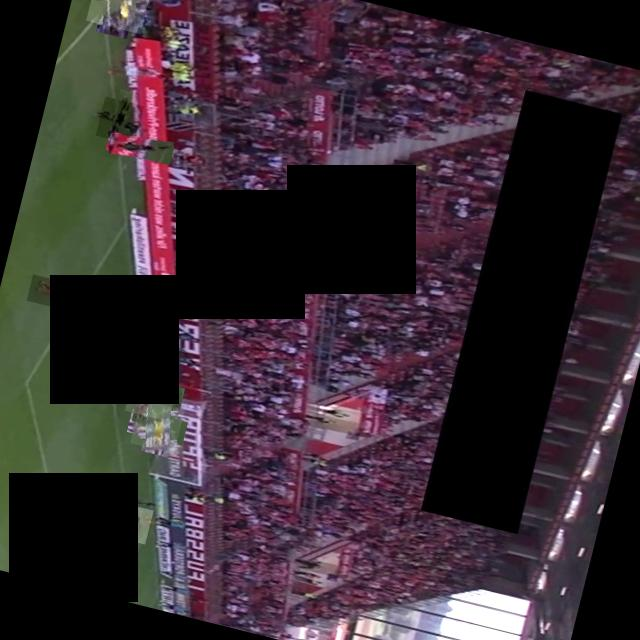goalkeeper: (128, 398, 184, 454)
referee: (84, 0, 152, 33)
soccer-player: (26, 531, 94, 577), (26, 274, 98, 317), (123, 366, 178, 421), (106, 128, 174, 167), (72, 287, 142, 320), (94, 96, 142, 144), (111, 502, 152, 544)
